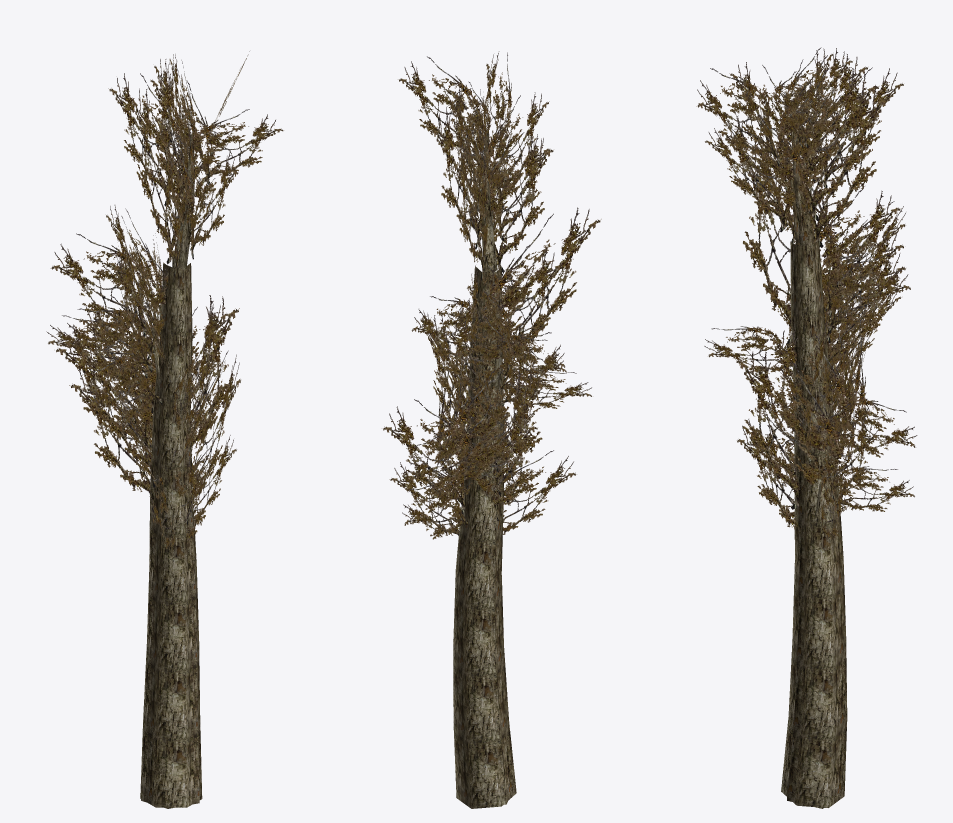
The model's file is far.glb.
3 views of the same model, side by side, from view 1: azimuth 30°, elevation 25°; view 2: azimuth 150°, elevation 25°; view 3: azimuth 270°, elevation 25° (orthographic). The views are drawn at different scales.
Visible parts, largest first — view 1: lod1, lod2; view 2: lod1, lod2; view 3: lod1, lod2.
Boxes of the visible parts, <box> form: lod1: <box>46,51,283,807</box>; lod2: <box>56,54,240,808</box>; lod1: <box>383,51,591,808</box>; lod2: <box>389,81,601,804</box>; lod1: <box>696,48,917,807</box>; lod2: <box>735,47,905,808</box>.
Size of the model in its own units: 10.33 by 33.87 by 10.2.
Materials: 2 (2 with a texture image).
